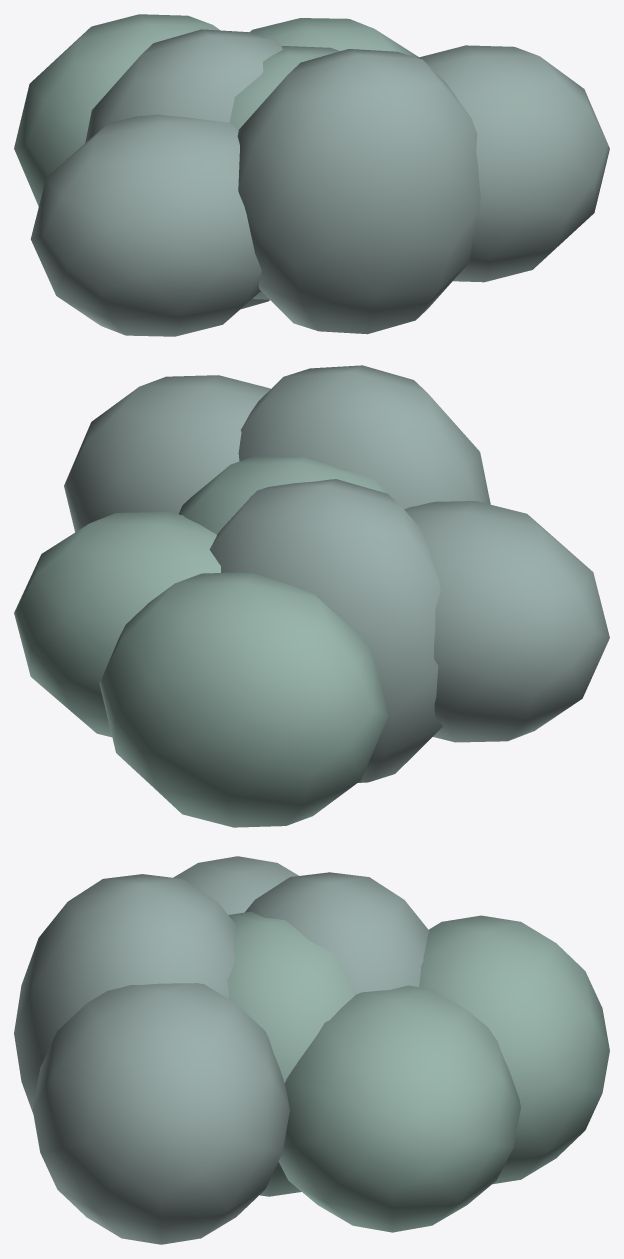
File: bush-1.glb
3 views of the same model, one above another, from view 1: azimuth 30°, elevation 25°; view 2: azimuth 150°, elevation 25°; view 3: azimuth 270°, elevation 25° (orthographic). The views are drawn at different scales.
Visible parts, largest first — view 1: Bush_Clump.009, Bush_Clump.011, Bush_Clump.012, Bush_Clump.013, Bush_Clump.008, Bush_Clump.010, Bush_Clump.007; view 2: Bush_Clump.013, Bush_Clump.011, Bush_Clump.008, Bush_Clump.010, Bush_Clump.009, Bush_Clump.012, Bush_Clump.007; view 3: Bush_Clump.012, Bush_Clump.010, Bush_Clump.013, Bush_Clump.009, Bush_Clump.008, Bush_Clump.007, Bush_Clump.011.
Boxes of the visible parts, x1,y1,x2,y2 form: Bush_Clump.009: (237,49,480,334); Bush_Clump.011: (30,114,261,336); Bush_Clump.012: (418,45,609,282); Bush_Clump.013: (14,14,220,206); Bush_Clump.008: (85,29,282,309); Bush_Clump.010: (250,18,418,57); Bush_Clump.007: (229,46,339,299); Bush_Clump.013: (99,572,388,827); Bush_Clump.011: (404,501,609,742); Bush_Clump.008: (209,479,442,782); Bush_Clump.010: (14,512,220,737); Bush_Clump.009: (238,365,490,509); Bush_Clump.012: (64,375,270,532); Bush_Clump.007: (179,456,391,534); Bush_Clump.012: (32,983,289,1244); Bush_Clump.010: (278,985,520,1232); Bush_Clump.013: (419,915,609,1184); Bush_Clump.009: (14,874,236,1113); Bush_Clump.008: (245,872,429,994); Bush_Clump.007: (227,911,355,1196); Bush_Clump.011: (173,856,298,914).
Size of the model in its own units: 1.51 by 0.8392 by 1.38.
